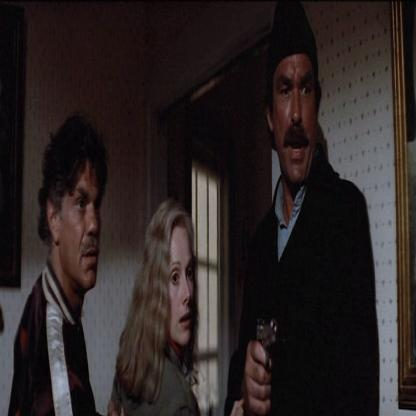gun: (252, 304, 284, 377)
